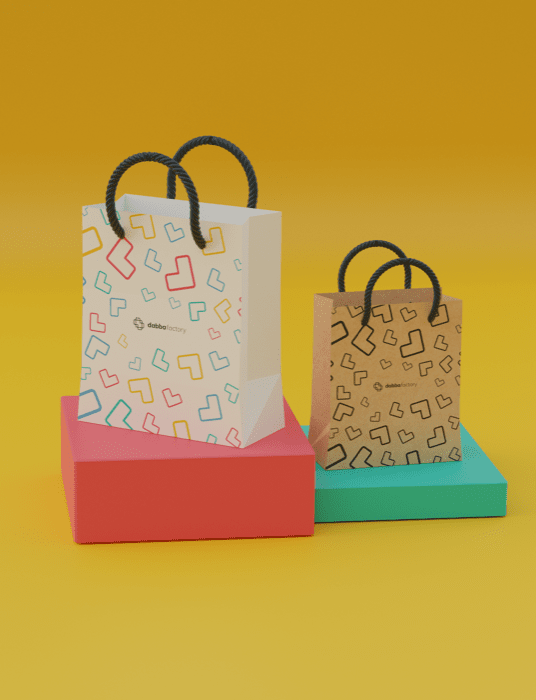carrybag: (76, 142, 280, 447), (320, 252, 485, 472)
